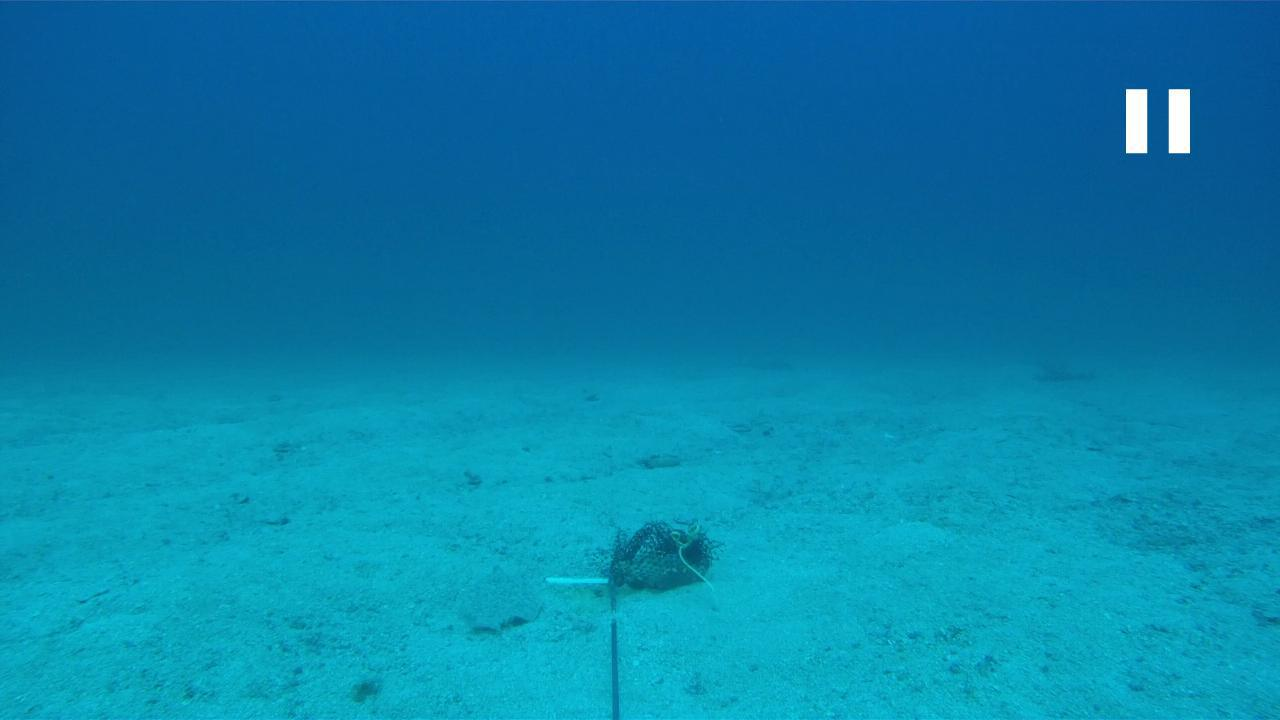bothus: (450, 563, 551, 639)
